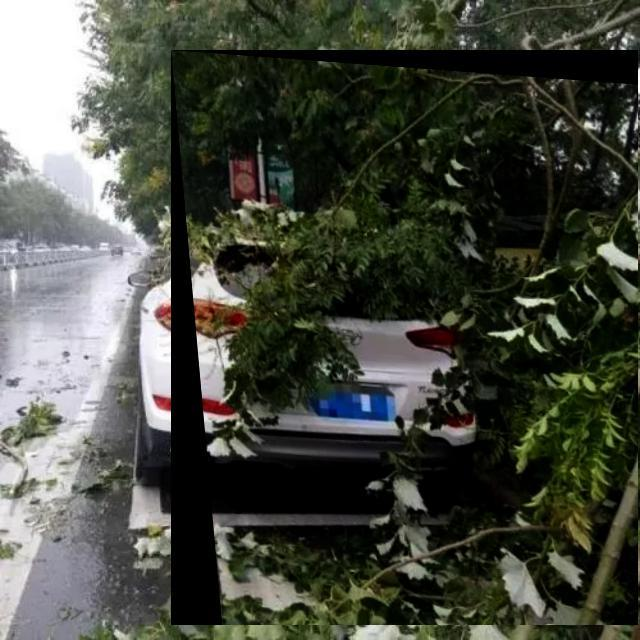fallen_tree: (171, 50, 639, 626)
